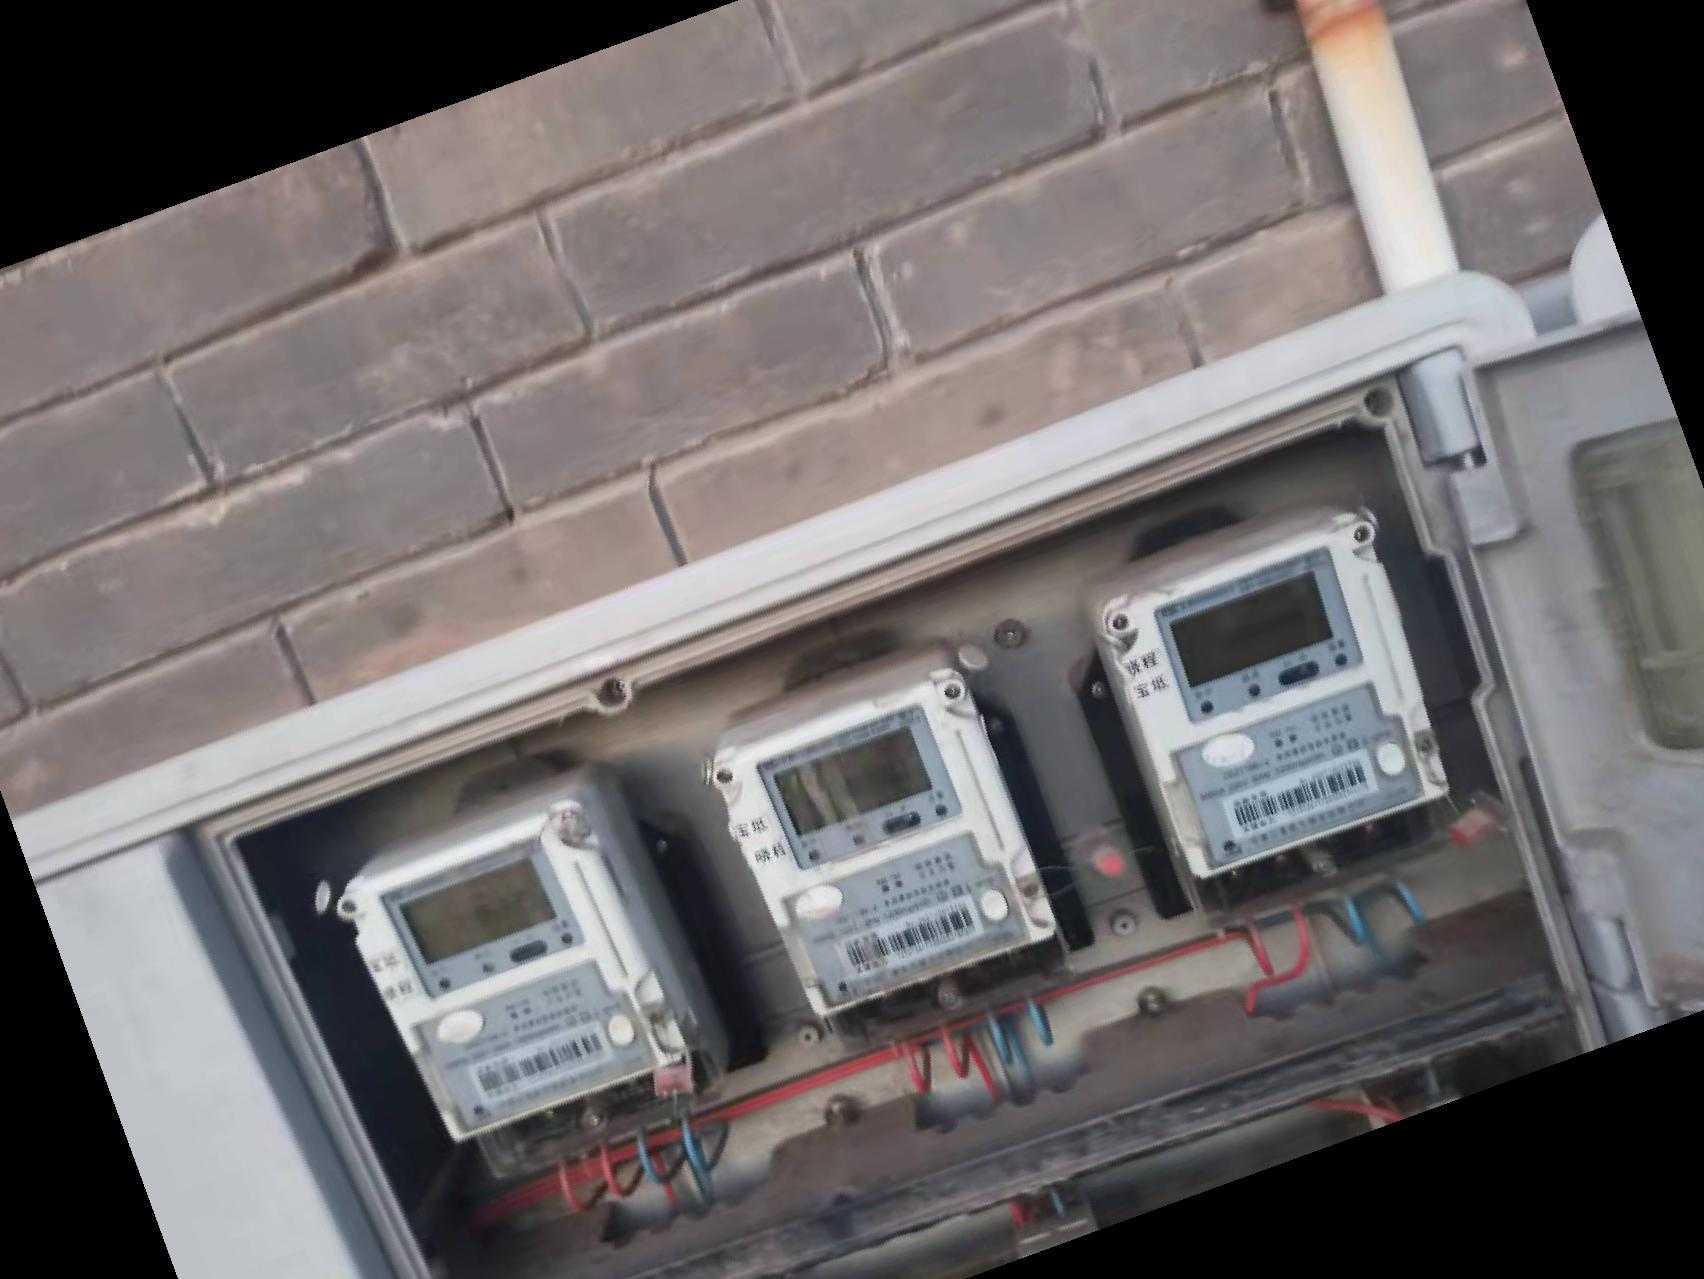digital: (1106, 520, 1445, 875), (342, 803, 683, 1141), (718, 673, 1054, 1012)
